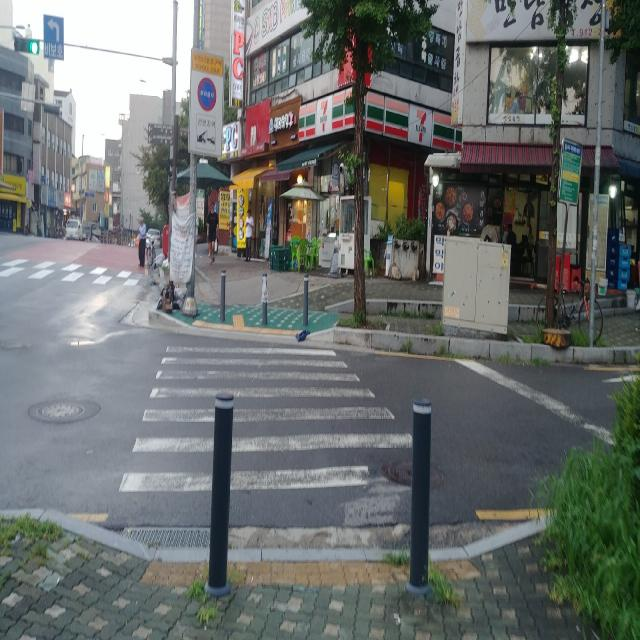횡단보도: (119, 346, 412, 492)
